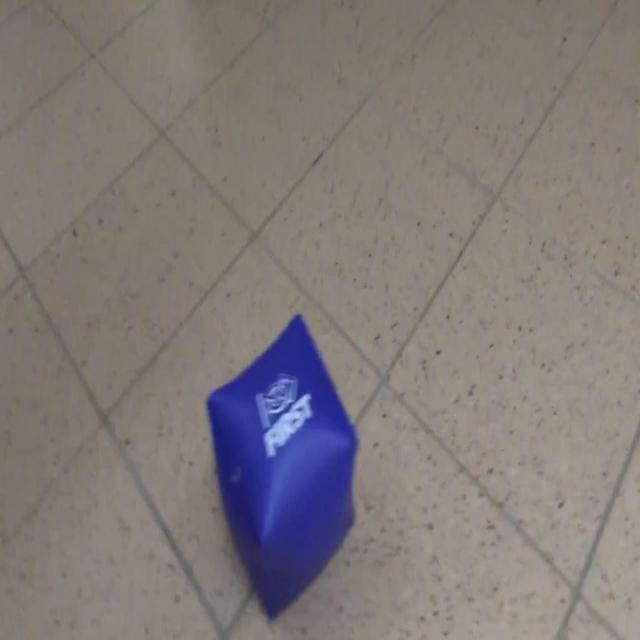frc_cube: (206, 316, 360, 620)
